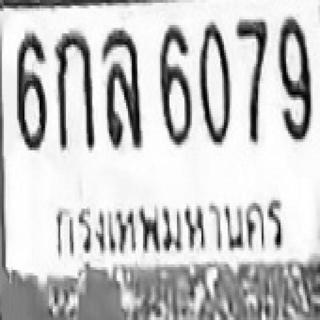A01: (55, 29, 92, 149)
A36: (101, 26, 142, 146)
N00: (198, 19, 230, 142)
N06: (158, 22, 190, 145), (15, 31, 45, 147)
N07: (235, 17, 265, 142)
N09: (277, 12, 311, 140)
P04: (51, 188, 285, 264)
